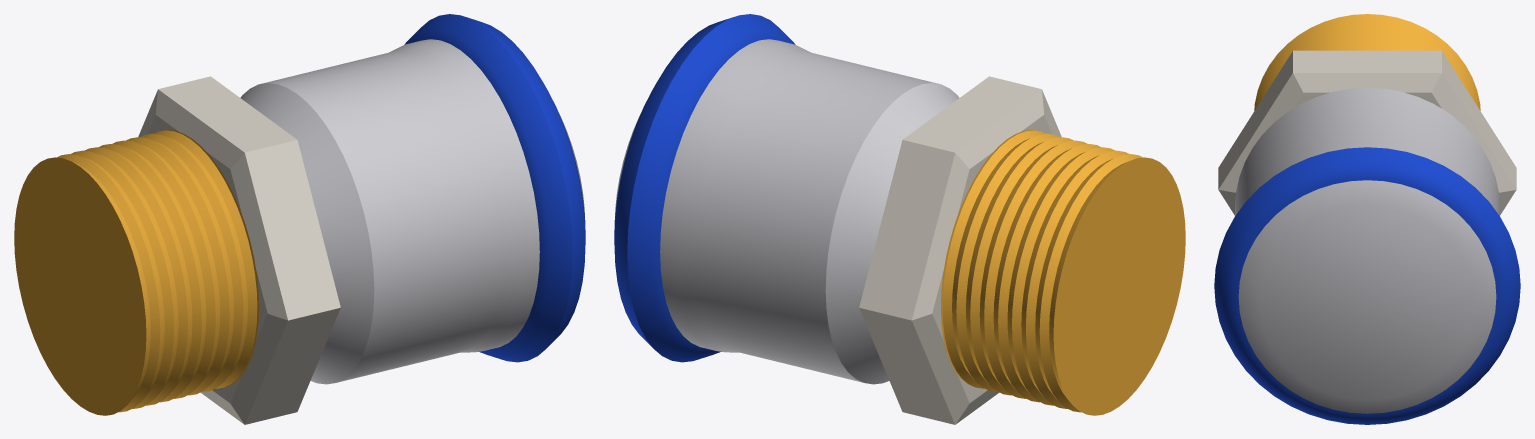
File: fitting_adp_22x34_M.glb
3 renders of one model, left to right at view 1: azimuth 30°, elevation 25°; view 2: azimuth 150°, elevation 25°; view 3: azimuth 270°, elevation 25°, orthographic. The views are drawn at different scales.
Parts seen in each view (by area): view 1: раструб, резьба НР, шестигранник переходника, кольцо пресс; view 2: раструб, резьба НР, шестигранник переходника, кольцо пресс; view 3: раструб, кольцо пресс, шестигранник переходника, резьба НР.
Part boxes in pixels (bbox=[...]): раструб: bbox=[240, 39, 584, 384]; резьба НР: bbox=[14, 130, 258, 415]; шестигранник переходника: bbox=[138, 76, 340, 424]; кольцо пресс: bbox=[404, 14, 585, 362]; раструб: bbox=[615, 39, 959, 384]; резьба НР: bbox=[941, 130, 1185, 415]; шестигранник переходника: bbox=[859, 76, 1061, 424]; кольцо пресс: bbox=[614, 14, 795, 362]; раструб: bbox=[1235, 87, 1499, 413]; кольцо пресс: bbox=[1214, 147, 1520, 424]; шестигранник переходника: bbox=[1218, 50, 1516, 215]; резьба НР: bbox=[1254, 14, 1480, 110].
Size of the model in its own units: 0.051 by 0.0356 by 0.0356.
